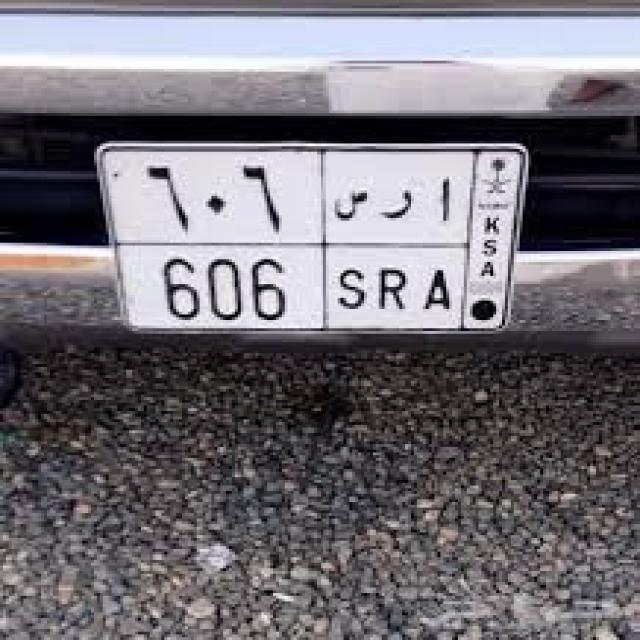license_plate: (91, 138, 531, 339)
